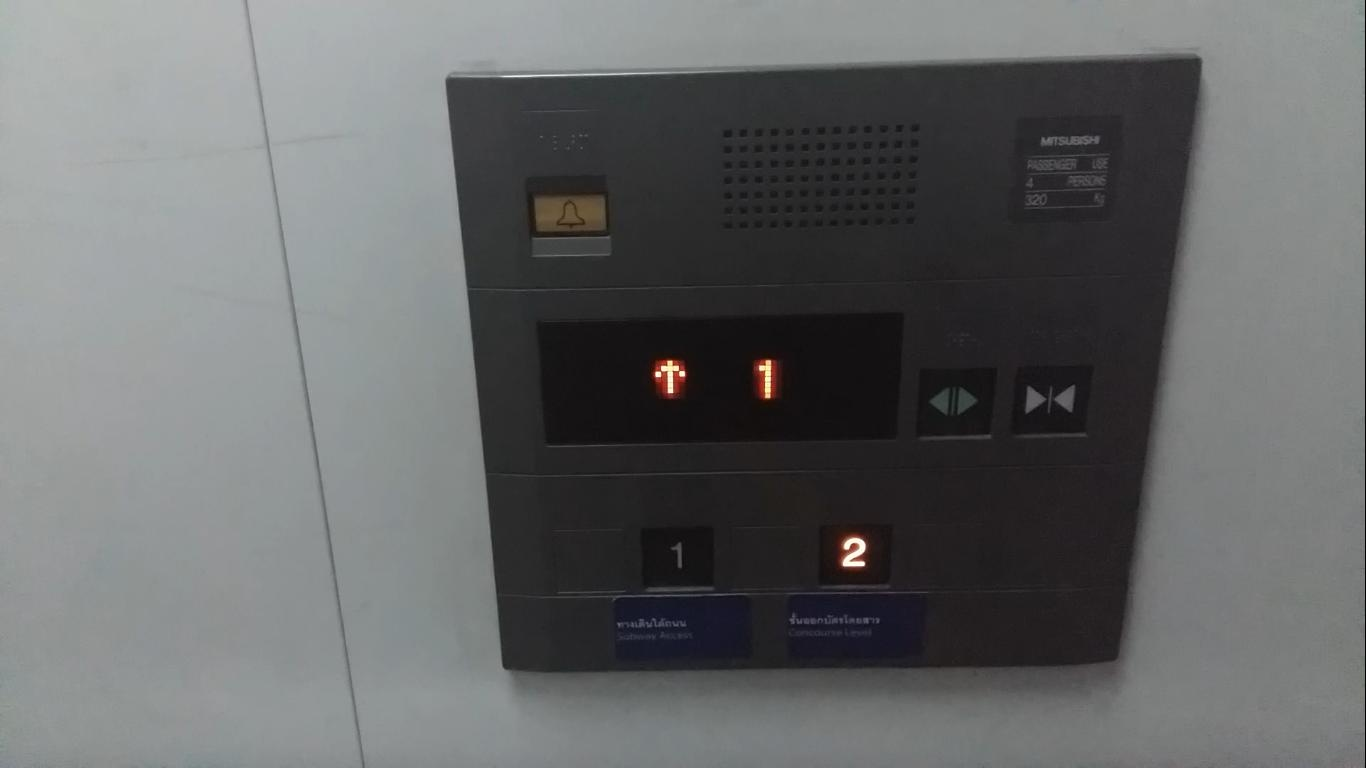1: (634, 522, 721, 594)
2: (811, 520, 898, 592)
alarm: (531, 188, 608, 237)
close: (1004, 360, 1094, 442)
led: (533, 308, 905, 451)
open: (911, 363, 999, 440)
